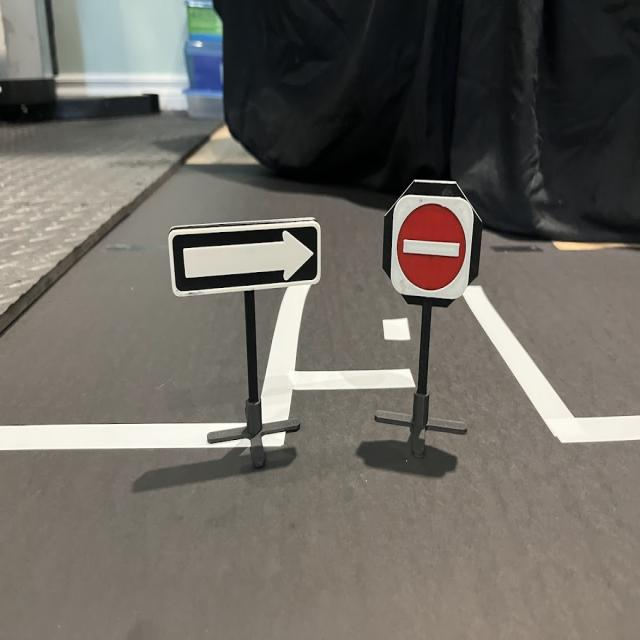sign_noentry: (390, 191, 475, 310)
sign_oneway_right: (166, 217, 325, 300)
